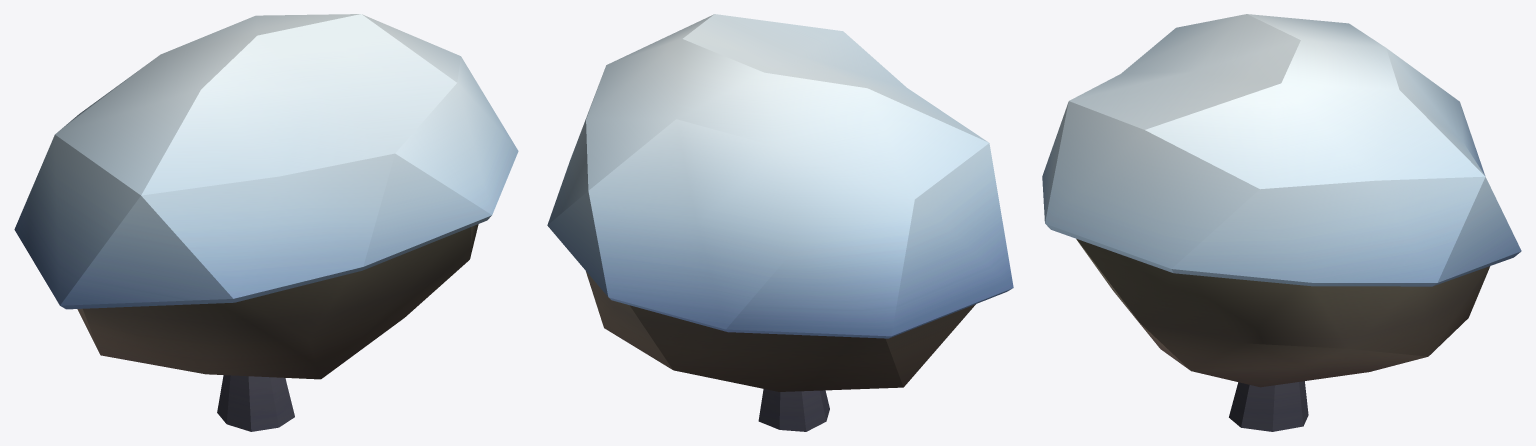
Rendered from SM_Hedge_01.fbx.
3 views of the same model, side by side, from view 1: azimuth 30°, elevation 25°; view 2: azimuth 150°, elevation 25°; view 3: azimuth 270°, elevation 25° (orthographic). The views are drawn at different scales.
Visible parts, largest first — view 1: Laub-1.001; view 2: Laub-1.001; view 3: Laub-1.001.
Part boxes in pixels (box(x1,y1,x2,y2)): Laub-1.001: box(14, 14, 518, 431); Laub-1.001: box(547, 14, 1013, 431); Laub-1.001: box(1042, 14, 1521, 431).
Bounding box in the file's own units: 499 × 412 × 458.
Materials: 1 (1 with a texture image).
